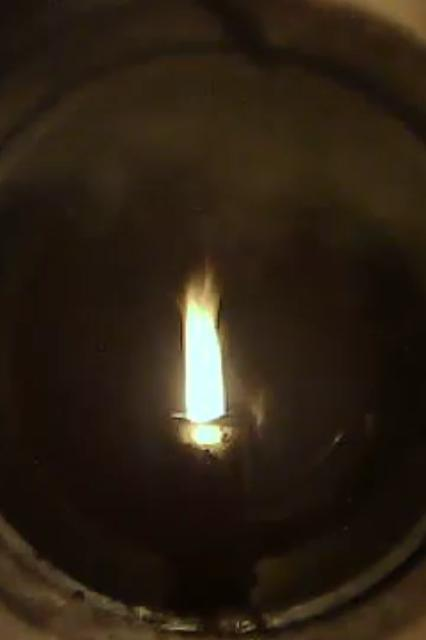burner flame: (179, 254, 227, 423)
